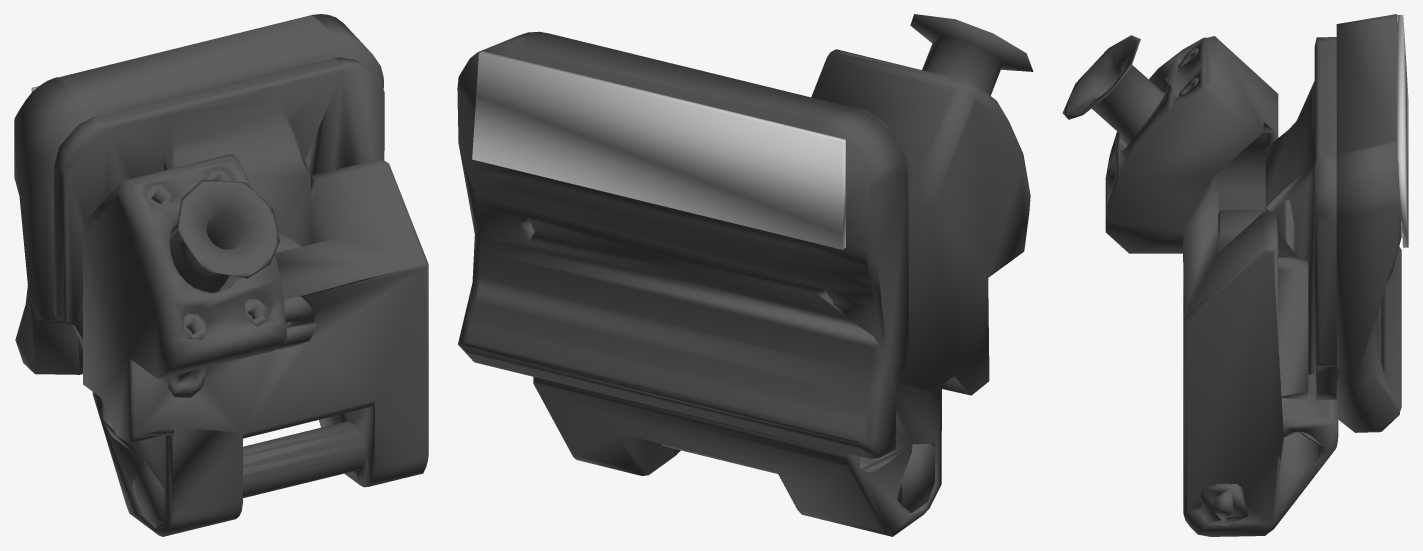
Rendered from l_distal.dae.
The picture shows the model from 3 angles, left to right: view 1: azimuth 30°, elevation 25°; view 2: azimuth 150°, elevation 25°; view 3: azimuth 270°, elevation 25°; orthographic projection. The views are drawn at different scales.
Parts seen in each view (by area): view 1: Left_Distal; view 2: Left_Distal, Left_Fingertip; view 3: Left_Distal, Left_Fingertip.
Boxes of the visible parts, bbox=[...] form: Left_Distal: bbox=[14, 14, 428, 536]; Left_Distal: bbox=[457, 14, 1033, 536]; Left_Fingertip: bbox=[472, 51, 845, 249]; Left_Distal: bbox=[1062, 14, 1401, 536]; Left_Fingertip: bbox=[1397, 15, 1408, 247].
Bounding box in the file's own units: 0.039 × 0.0346 × 0.0431.
